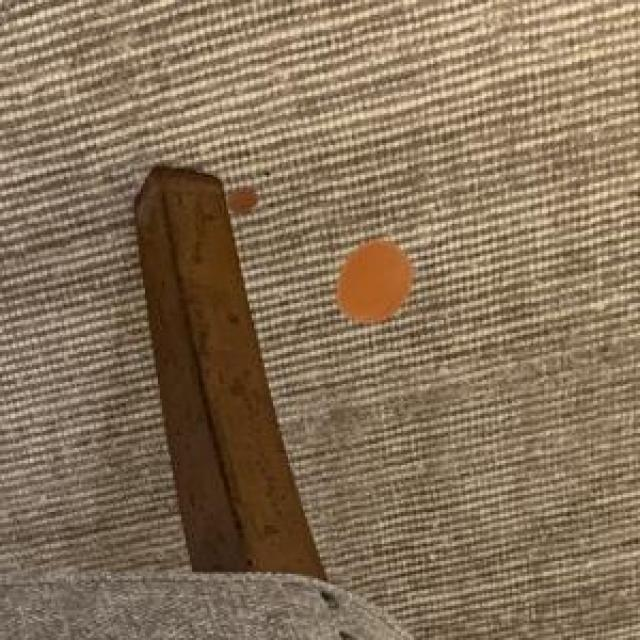Bactidol: (333, 222, 419, 338), (220, 184, 260, 224)
